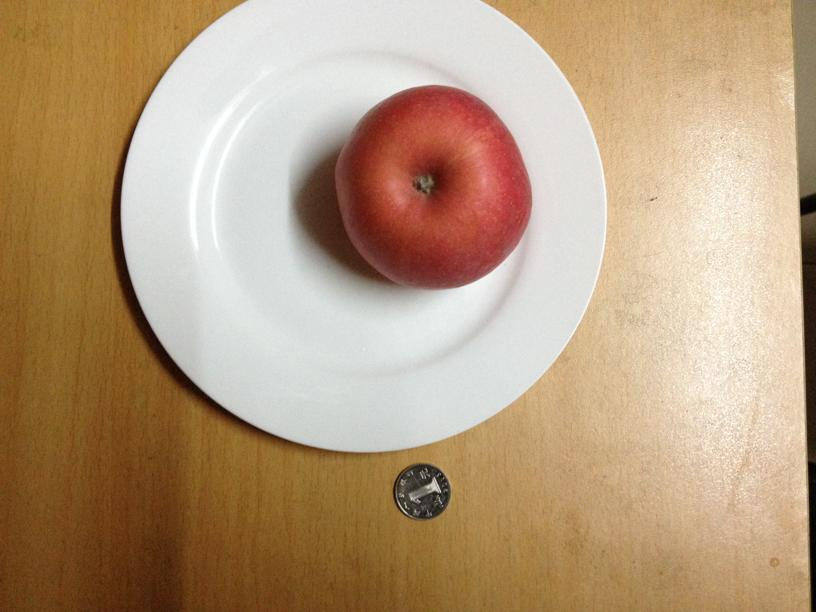apple: (335, 82, 532, 289)
coin: (392, 463, 451, 520)
